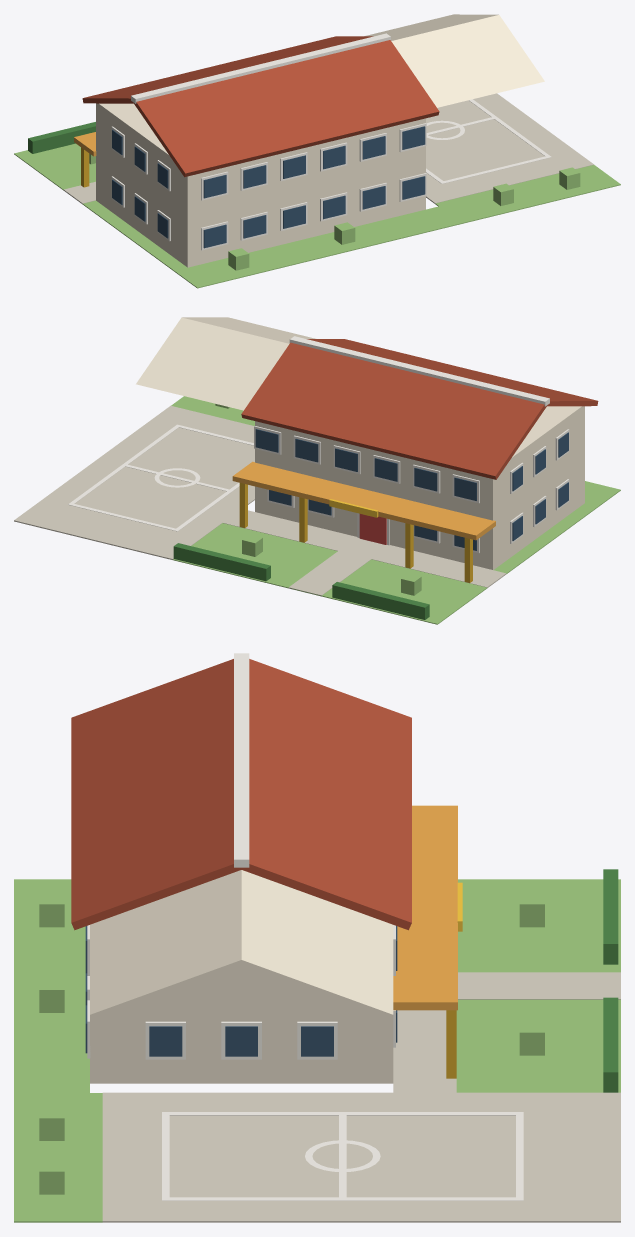
Rendered from primary.glb.
The picture shows the model from 3 angles, top to bottom: view 1: azimuth 30°, elevation 25°; view 2: azimuth 150°, elevation 25°; view 3: azimuth 270°, elevation 25°; orthographic projection. The views are drawn at different scales.
Visible parts, largest first — view 1: roof (×2), building, playground, gable, yard, window_glass (×12), yard_lawn, ridge, lawn_front, tree_spot (×4), lawn_side, hedge (+1 smaller); view 2: roof (×2), playground, building, gable, lawn_front, awning, walkway, hedge (×2), window_glass (×6), ridge, path, lawn_side (+4 smaller); view 3: roof (×2), playground, gable, lawn_front, building, yard, awning, yard_lawn, tree_spot (×6), path, walkway, ridge (+4 smaller).
Boxes of the visible parts, x1,y1,x2,y2 form: roof (×2): [82, 36, 439, 177]; building: [96, 103, 425, 267]; playground: [426, 93, 593, 203]; gable: [364, 14, 544, 107]; yard: [174, 206, 461, 288]; window_glass (×12): [203, 126, 425, 248]; yard_lawn: [435, 165, 620, 223]; ridge: [131, 33, 390, 103]; lawn_front: [14, 143, 95, 190]; tree_spot (×4): [228, 167, 580, 270]; lawn_side: [82, 200, 187, 271]; hedge: [28, 122, 95, 153]; roof (×2): [241, 339, 598, 479]; playground: [14, 405, 254, 559]; building: [255, 406, 584, 569]; gable: [136, 317, 315, 410]; lawn_front: [173, 523, 487, 624]; awning: [232, 461, 495, 540]; walkway: [223, 510, 506, 587]; hedge (×2): [173, 543, 429, 619]; window_glass (×6): [255, 429, 476, 500]; ridge: [289, 336, 549, 406]; path: [288, 551, 371, 596]; lawn_side: [493, 503, 597, 573]; roof (×2): [71, 659, 411, 930]; playground: [102, 1092, 620, 1222]; gable: [90, 870, 393, 1014]; lawn_front: [456, 879, 620, 1092]; building: [90, 1015, 393, 1083]; yard: [14, 879, 89, 1092]; awning: [393, 805, 457, 1010]; yard_lawn: [14, 1093, 102, 1222]; tree_spot (×6): [39, 893, 544, 1194]; path: [458, 972, 620, 999]; walkway: [393, 1010, 456, 1092]; ridge: [234, 653, 249, 867].
Size of the model in its own units: 32 by 10.08 by 24.
